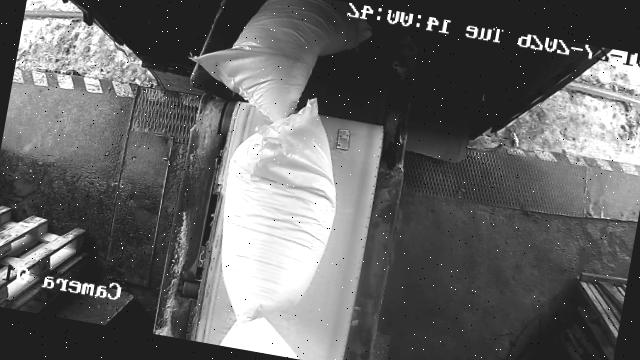bag: (203, 85, 354, 334), (184, 0, 378, 136), (217, 310, 310, 360)
